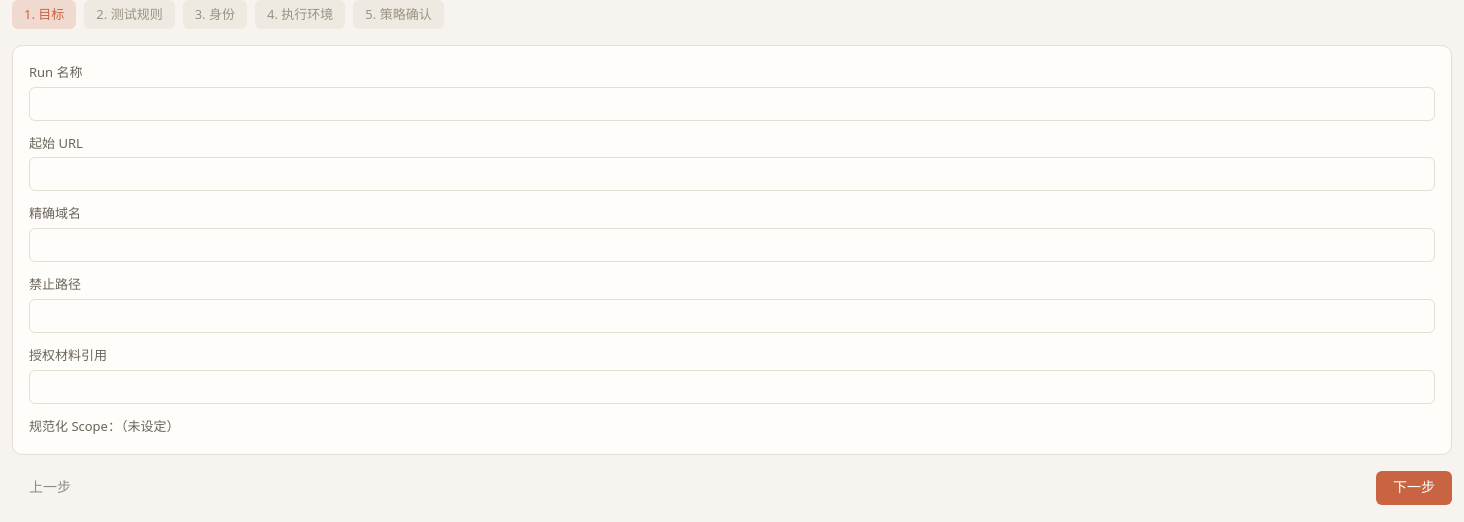
Test: RunWizard（§16.2 Preflight 门禁） › Preflight 未全过时 Start 禁用
Later steps or results of the test are not shown.
Click the button "下一步" at (1414, 488), box [1376,471,1452,505]
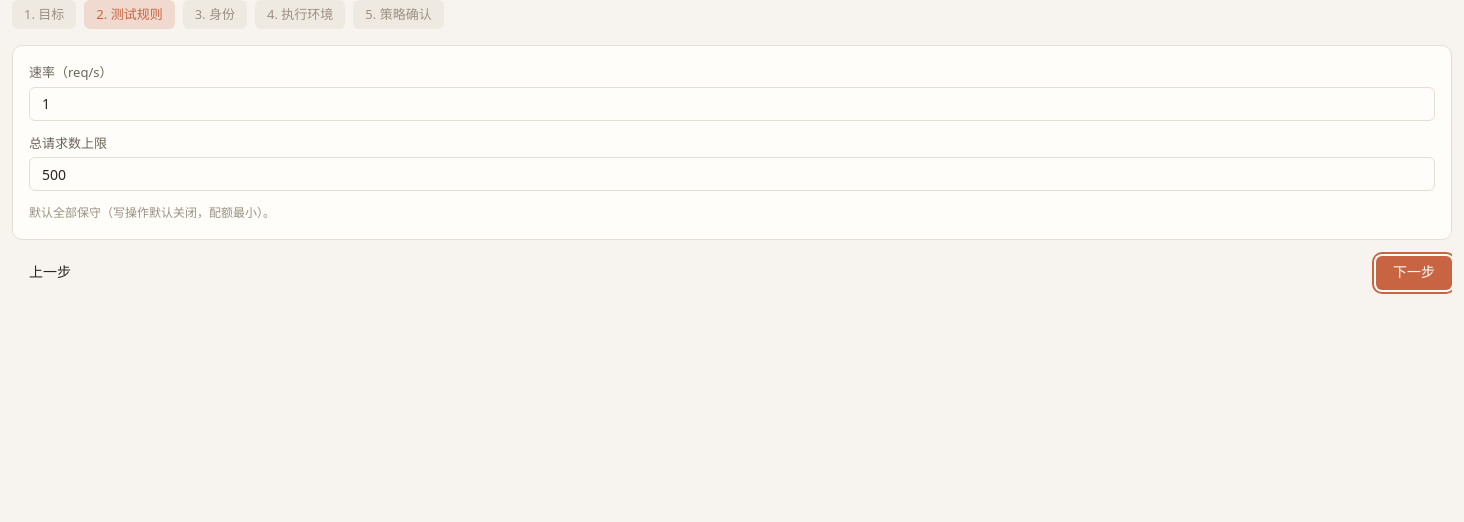
Click the button "下一步" at (1414, 273), box [1376,256,1452,290]
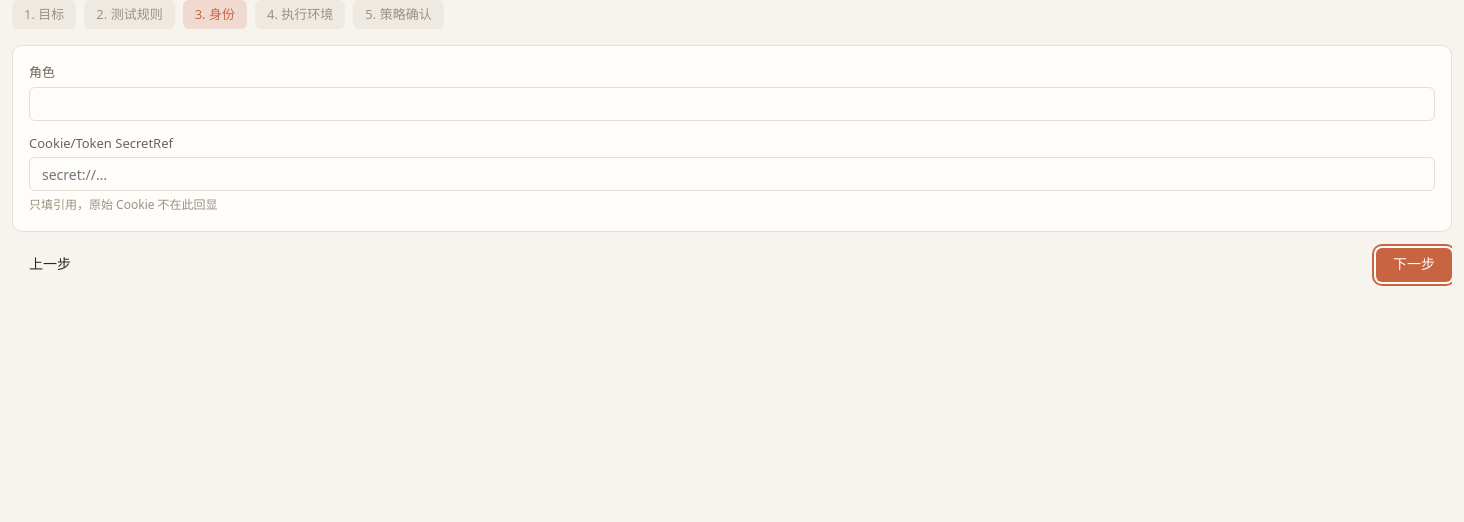
Click the button "下一步" at (1414, 265), box [1376,248,1452,282]
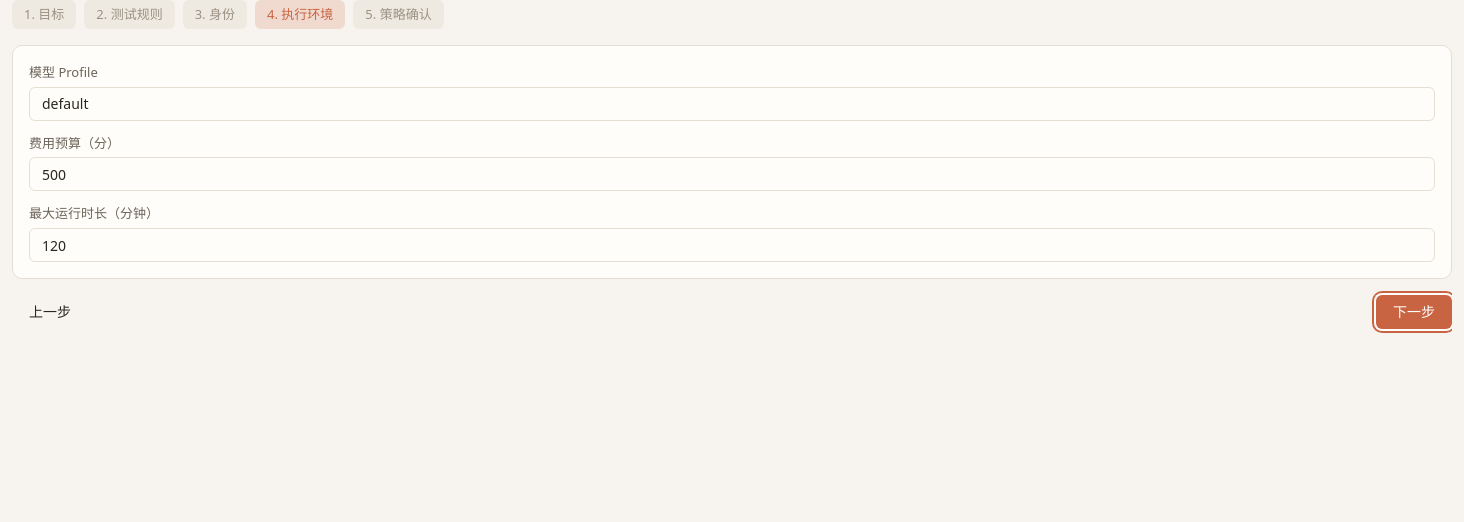
Click the button "下一步" at (1414, 312), box [1376,295,1452,329]
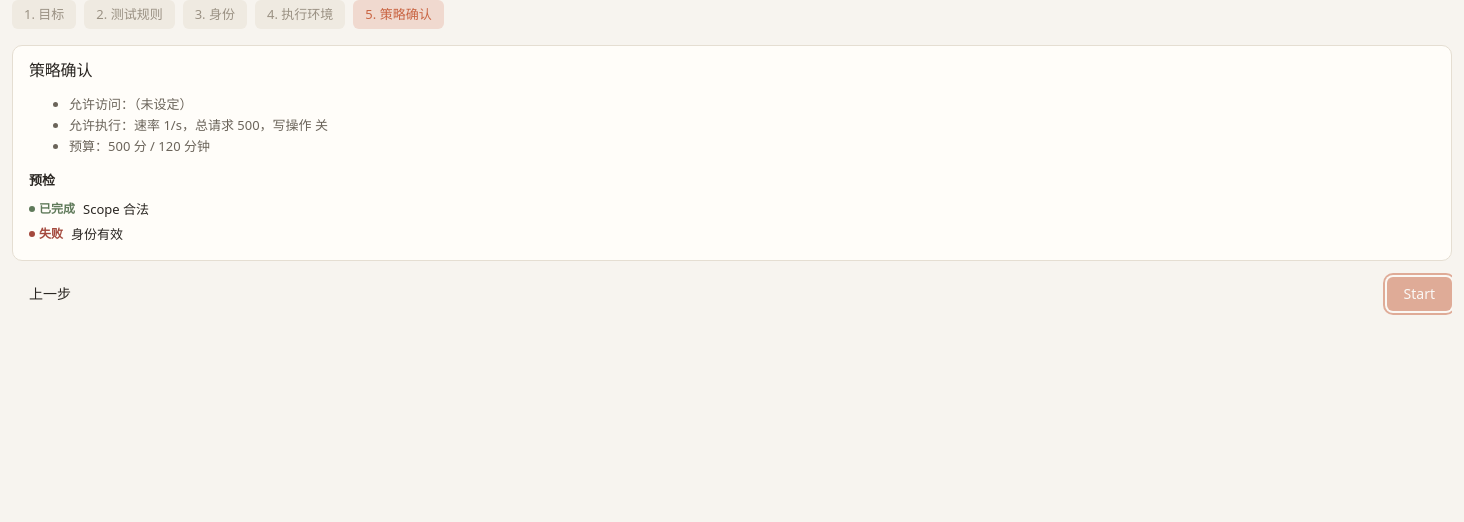
Result: the button "Start" is disabled at [1387,278,1452,312]
